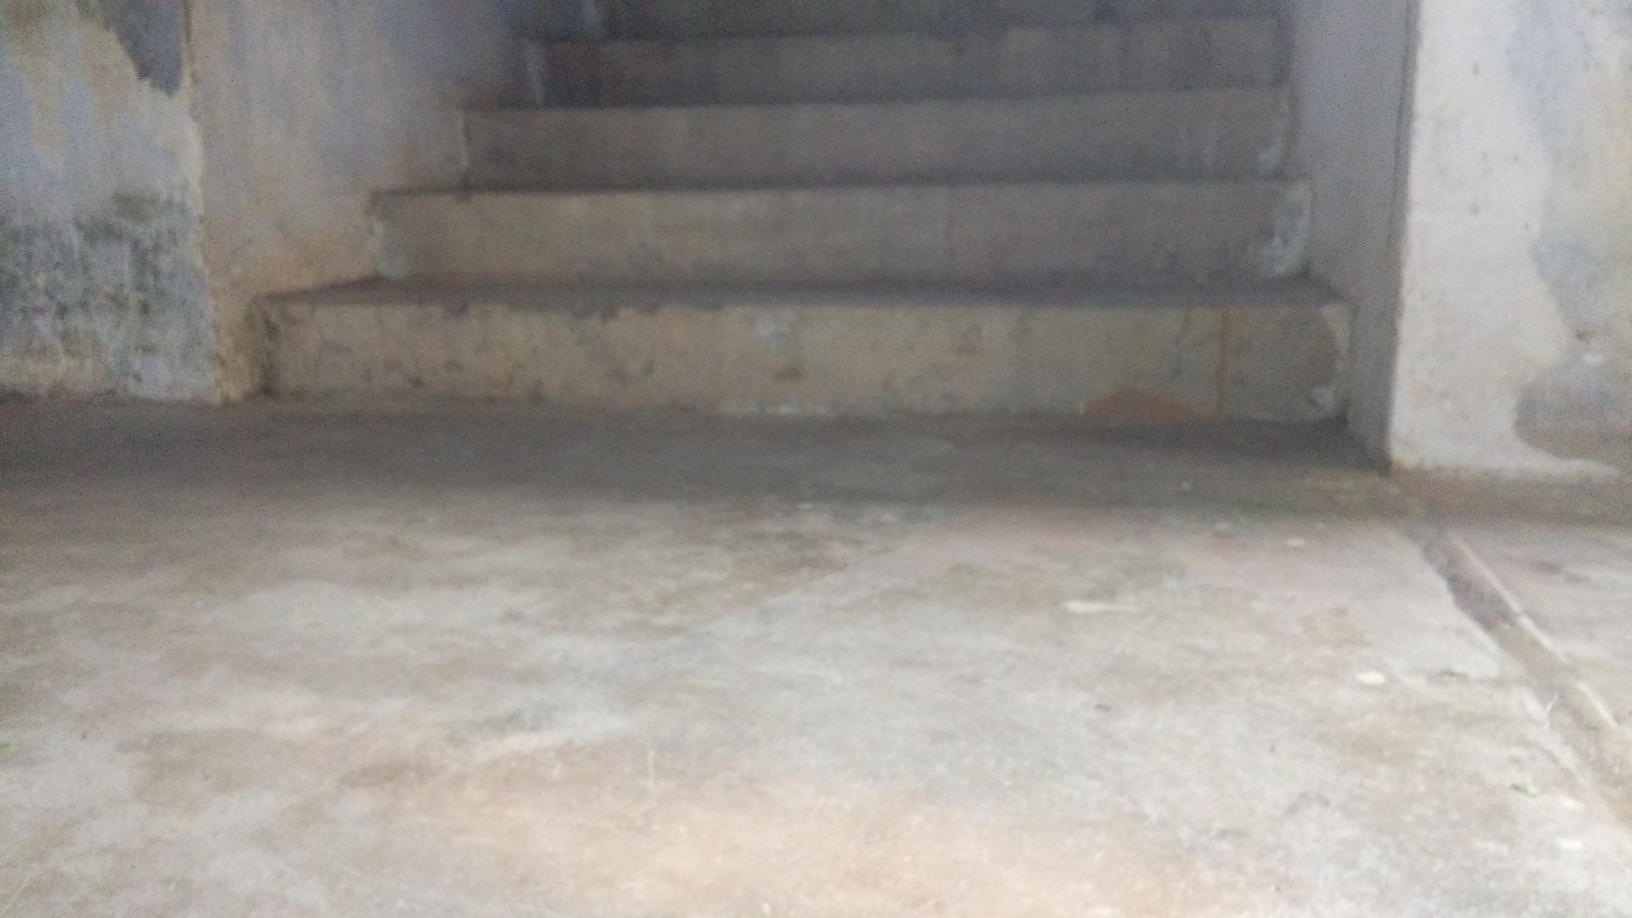stairs_up: (256, 28, 1369, 479)
